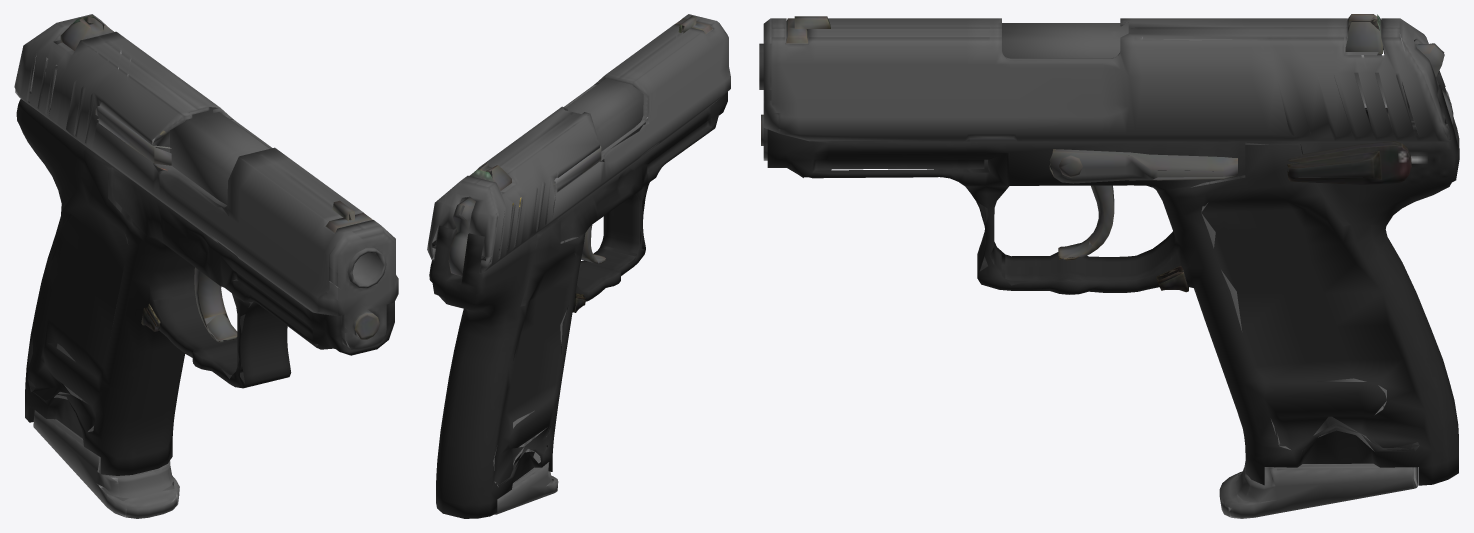
File: g_usp_lo.glb
3 views of the same model, side by side, from view 1: azimuth 30°, elevation 25°; view 2: azimuth 150°, elevation 25°; view 3: azimuth 270°, elevation 25° (orthographic). The views are drawn at different scales.
Visible parts, largest first — view 1: merged; view 2: merged; view 3: merged.
Boxes of the visible parts, x1,y1,x2,y2 form: merged: (14, 14, 398, 518); merged: (427, 14, 730, 518); merged: (759, 14, 1459, 518).
Size of the model in its own units: 0.3218 by 1.54 by 2.
Materials: 3 (3 with a texture image).
